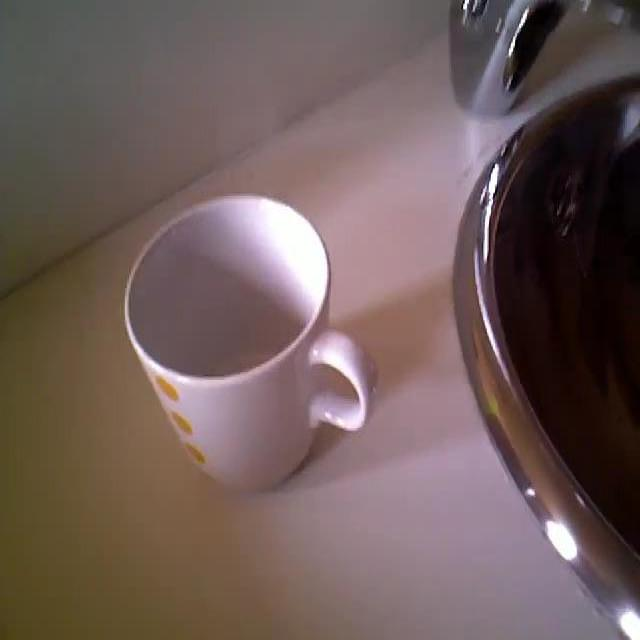cup: (124, 175, 354, 533)
